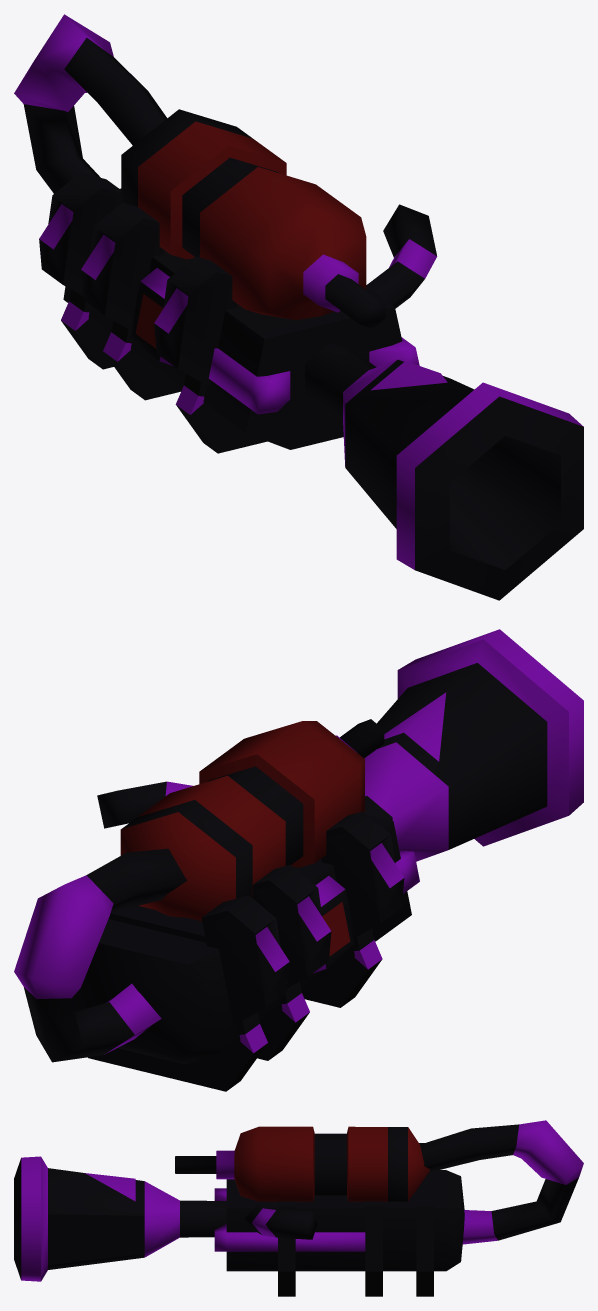
The model's file is 01_player_F_4_W.FBX.
The picture shows the model from 3 angles, top to bottom: view 1: azimuth 30°, elevation 25°; view 2: azimuth 150°, elevation 25°; view 3: azimuth 270°, elevation 25°; orthographic projection. The views are drawn at different scales.
Parts seen in each view (by area): view 1: 01_player_F_4_W; view 2: 01_player_F_4_W; view 3: 01_player_F_4_W.
Part boxes in pixels (x1,y1,x2,y2): 01_player_F_4_W: (14,14,583,600); 01_player_F_4_W: (14,629,583,1091); 01_player_F_4_W: (14,1120,583,1296).
Bounding box in the file's own units: 50.32 × 45.47 × 145.
